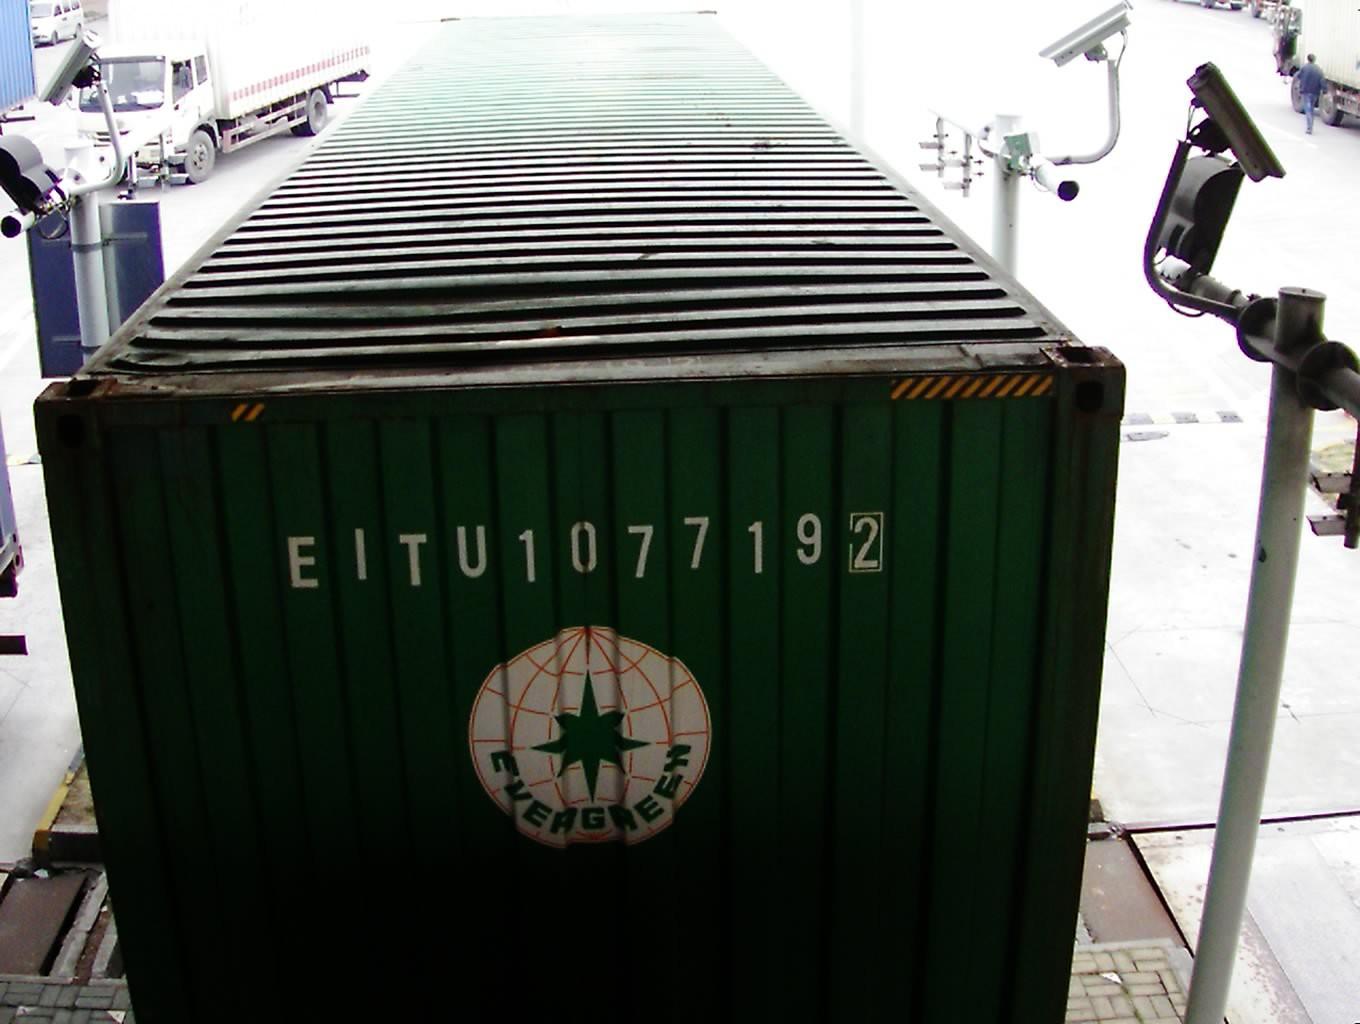words: (271, 512, 888, 593)
